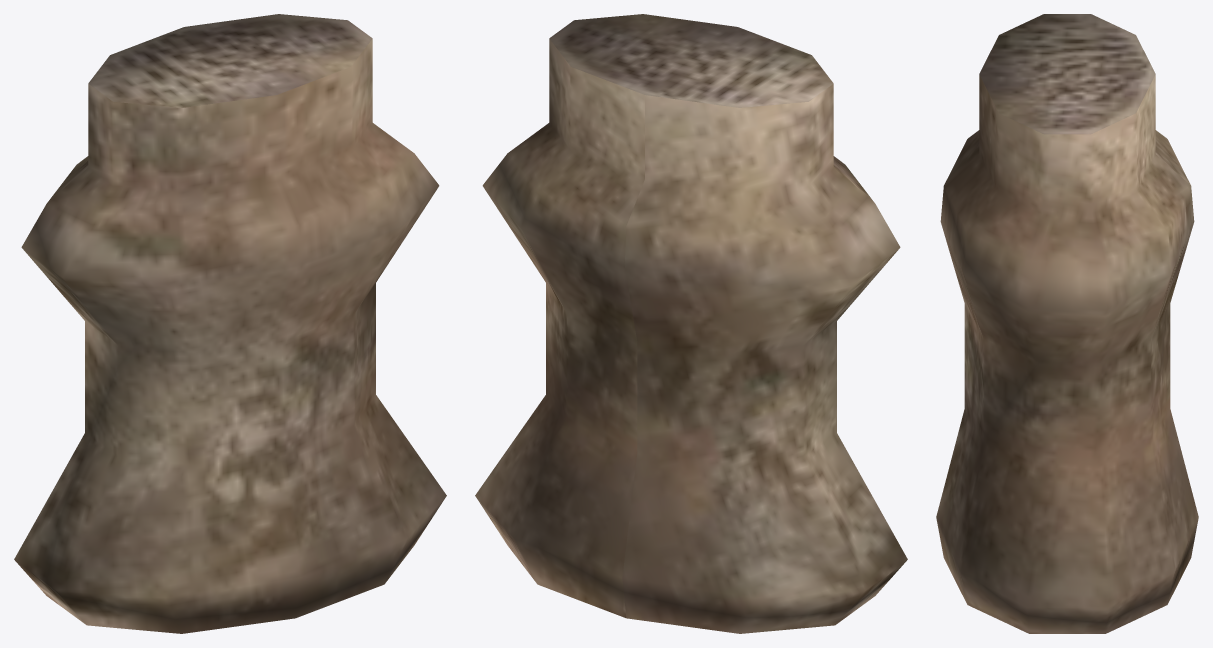
3 renders of one model, left to right at view 1: azimuth 30°, elevation 25°; view 2: azimuth 150°, elevation 25°; view 3: azimuth 270°, elevation 25°, orthographic. The views are drawn at different scales.
Visible parts, largest first — view 1: model_Object42; view 2: model_Object42; view 3: model_Object42.
Boxes of the visible parts, box(x1,y1,x2,y2) form: model_Object42: box(14, 14, 446, 633); model_Object42: box(475, 14, 907, 633); model_Object42: box(936, 14, 1198, 633).
Bounding box in the file's own units: 1.32 × 1.64 × 0.8088.
1 material, 1 textured.
